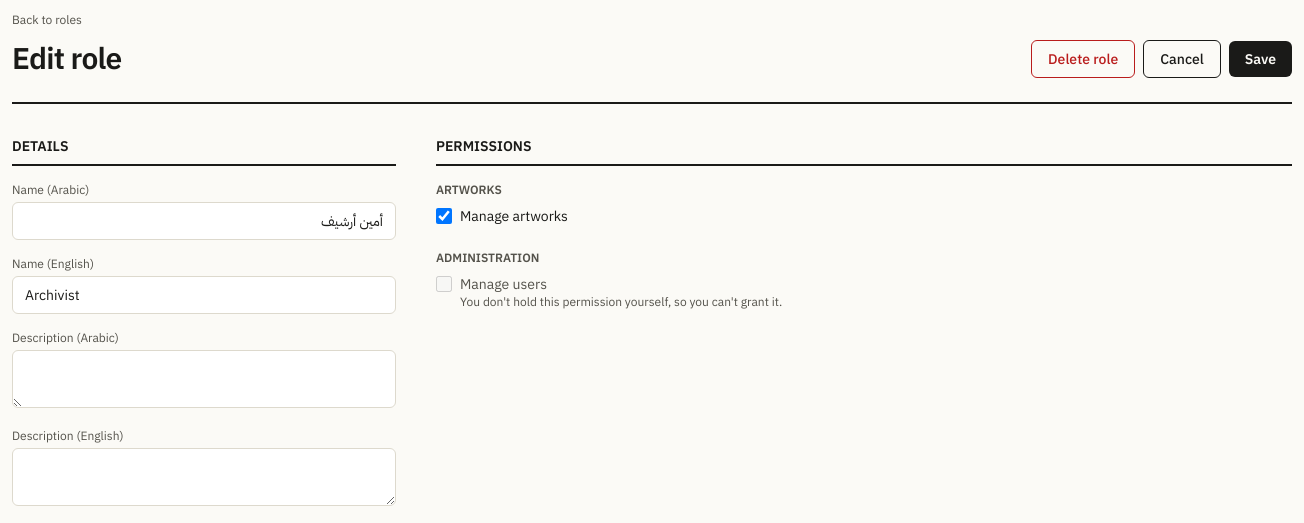
Scenario: RoleEditPage › shows a distinct message for the escalation refusal
Replace the text in the field with test id "role-name-en" with "Renamed" at (204,295), box x1=12 y1=276 x2=396 y2=314
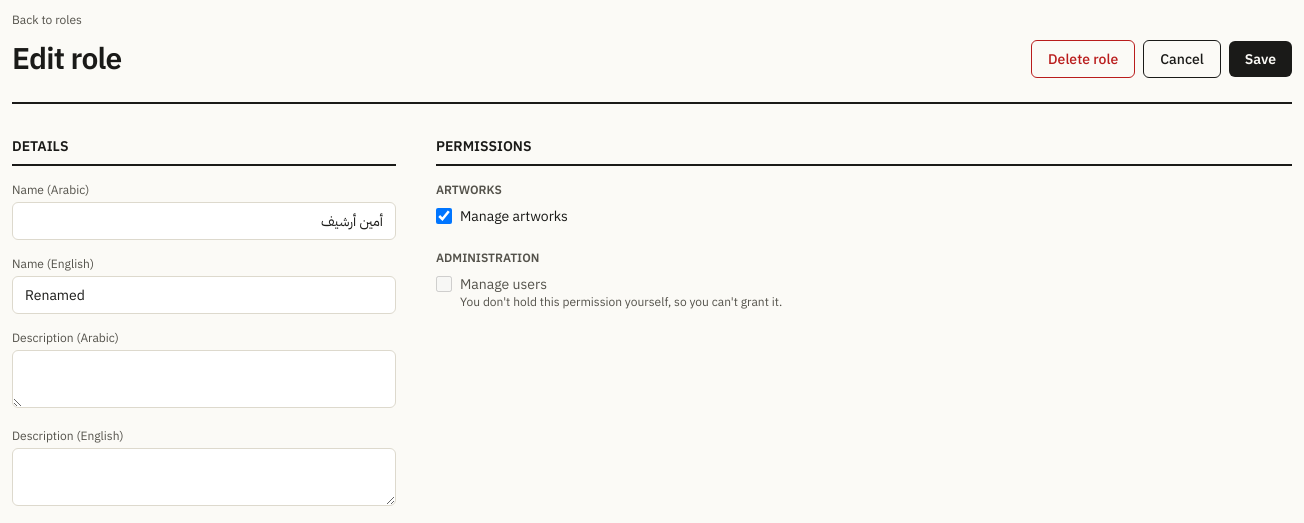
Submit the form from the button with test id "role-submit", box x1=1229 y1=41 x2=1292 y2=77
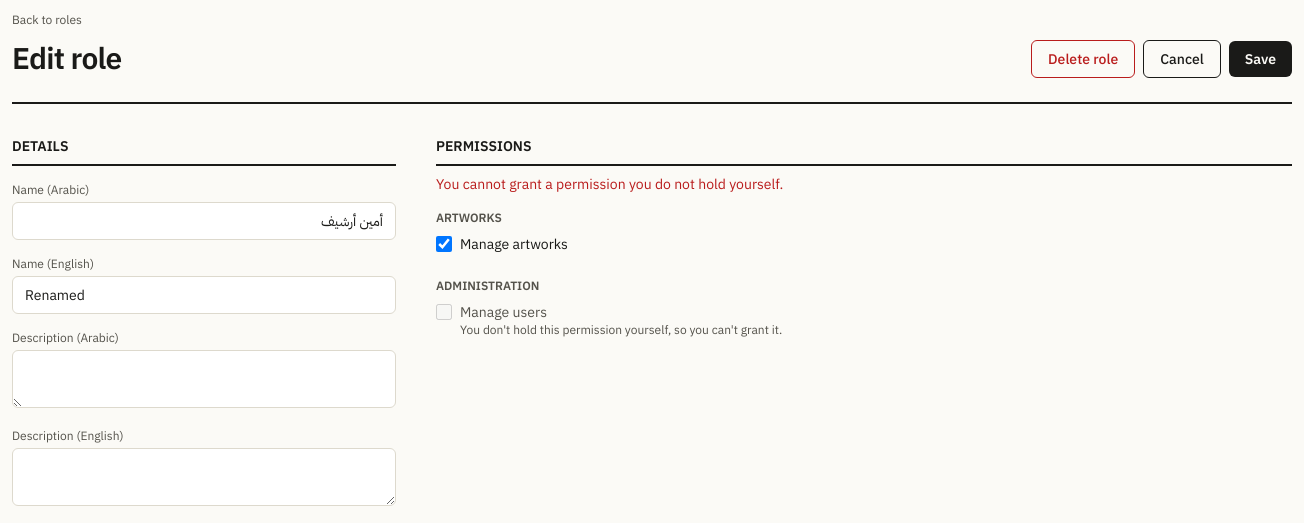
Now the text with test id "permissions-error" shows "do not hold yourself", box x1=436 y1=175 x2=783 y2=193
